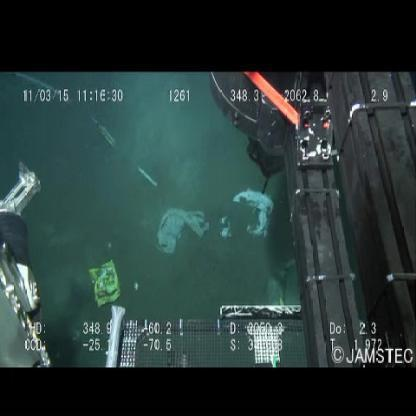Rác: (89, 260, 122, 308)
